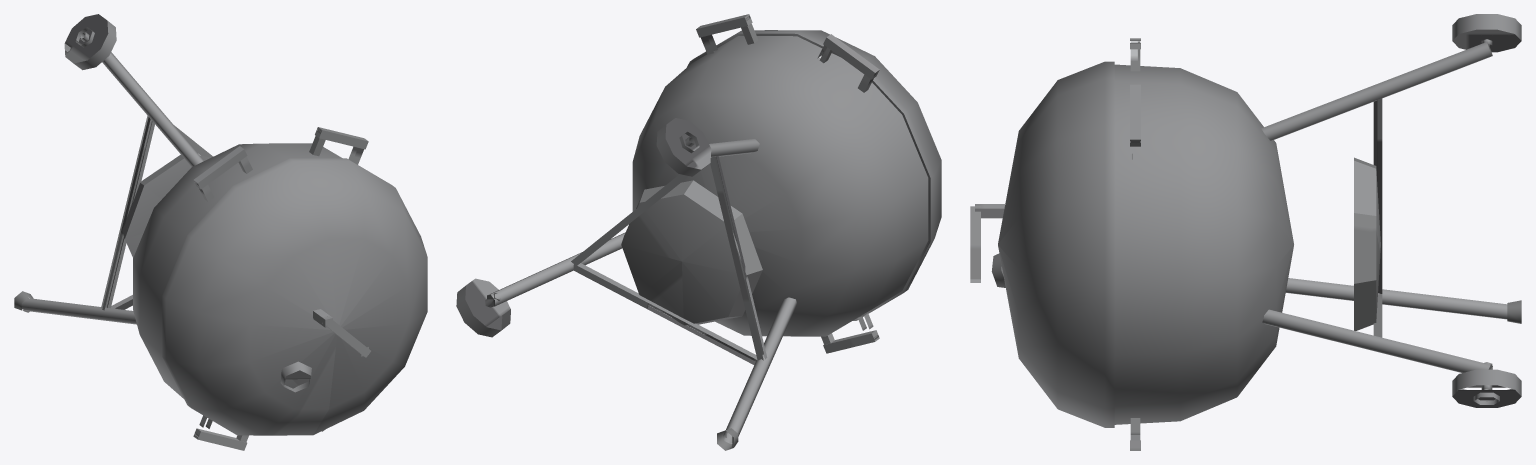
The picture shows the model from 3 angles, left to right: view 1: azimuth 30°, elevation 25°; view 2: azimuth 150°, elevation 25°; view 3: azimuth 270°, elevation 25°; orthographic projection. The views are drawn at different scales.
Bounding box in the file's own units: 0.7422 × 0.7845 × 0.9947.
